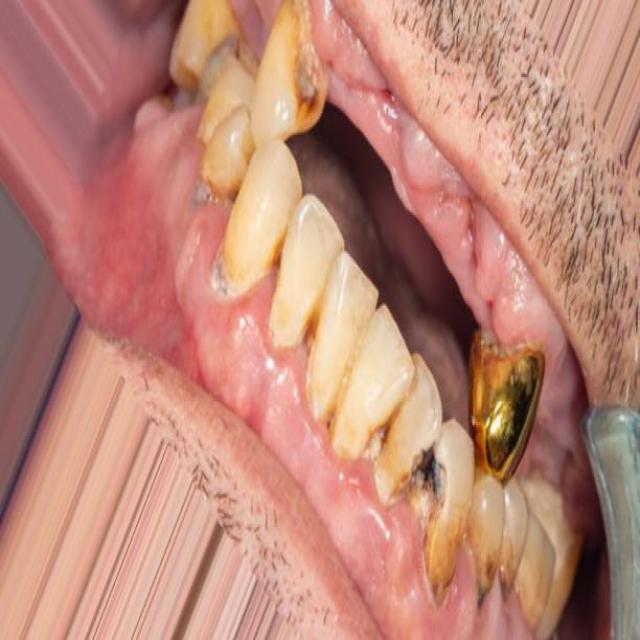caries: (399, 434, 453, 534), (472, 555, 502, 606)
